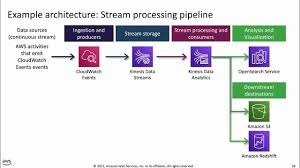cloudwatch: (79, 46, 99, 67)
kinesis data analytics: (191, 46, 211, 67)
kinesis data streams: (133, 46, 153, 66)
opensearch service: (249, 47, 269, 66)
redshift: (249, 131, 269, 151)
s3: (249, 101, 269, 122)
